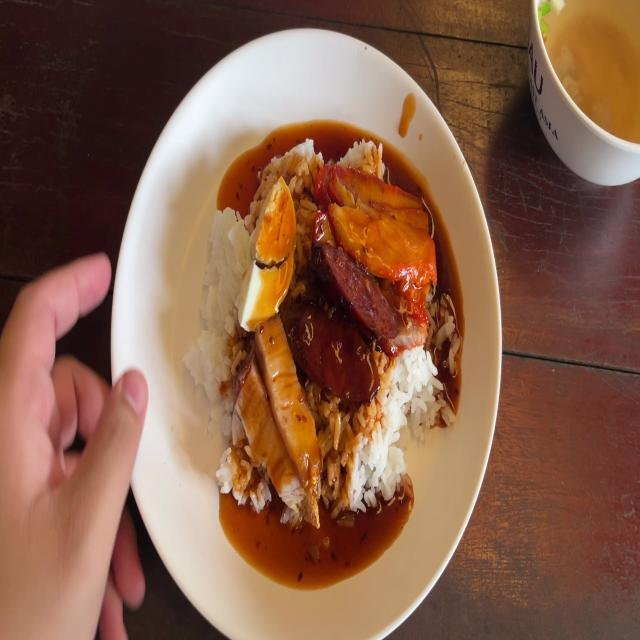01boiled_egg: (238, 181, 294, 326)
01chainese_sausage: (292, 245, 388, 392)
01crispy_pork: (240, 323, 312, 502)
01red_pork: (322, 153, 428, 283)
01red_pork_and_crispy_pork: (186, 140, 444, 543)
01rice: (345, 362, 423, 508), (197, 197, 240, 414)
